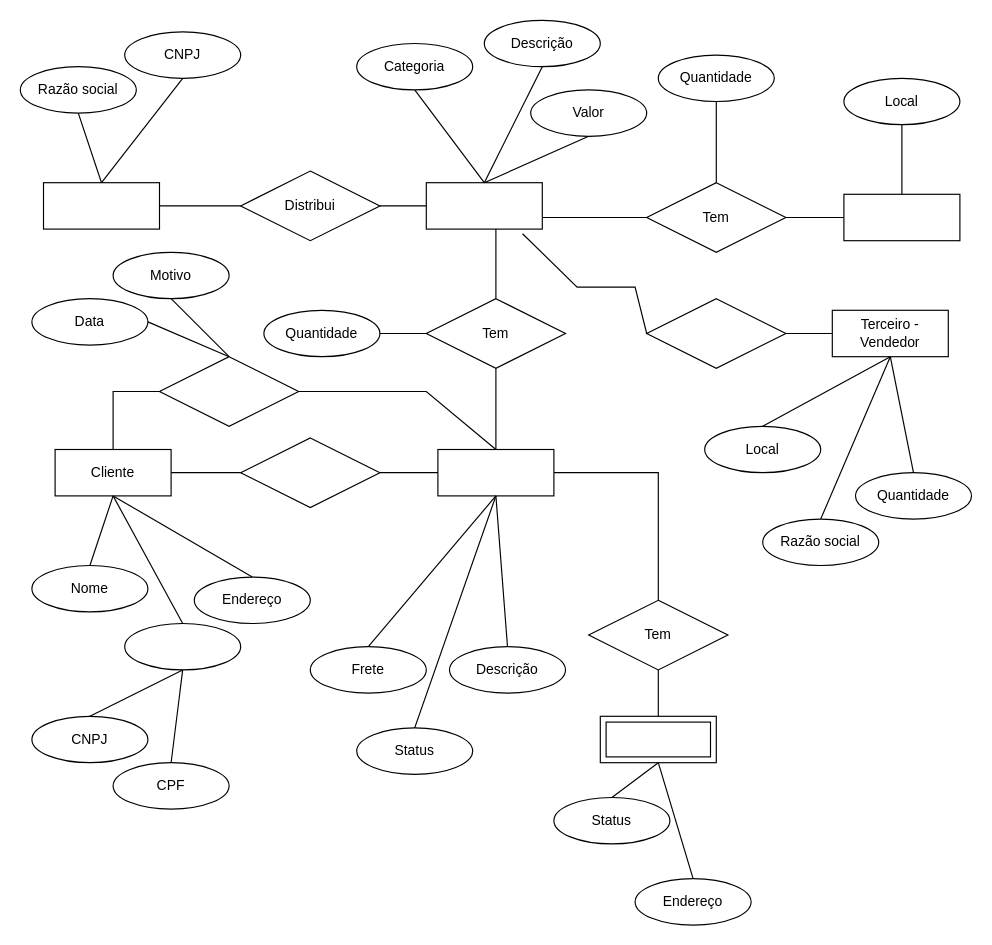
This 992x945 diagram has some shape labels left out. Here are the shapes that lost their labels. From the top down, the centre of each, then its label:
(x=101, y=205): Fornecedor
(x=483, y=205): Produto
(x=901, y=217): Estoque
(x=716, y=333): Vende
(x=228, y=391): Devolve
(x=310, y=472): Faz
(x=495, y=472): Pedido
(x=182, y=646): Identificação
(x=657, y=739): Entrega
